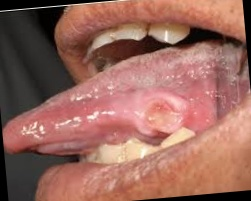Ulcer: (133, 89, 196, 141)
